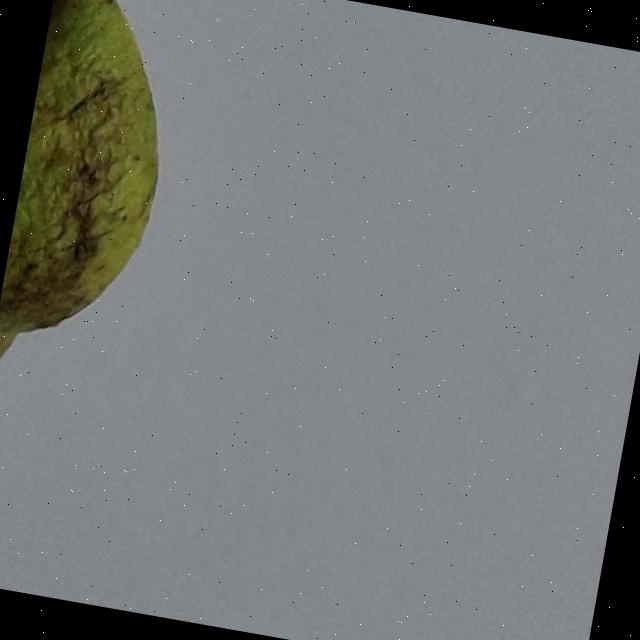mangosteen: (0, 0, 341, 629)
